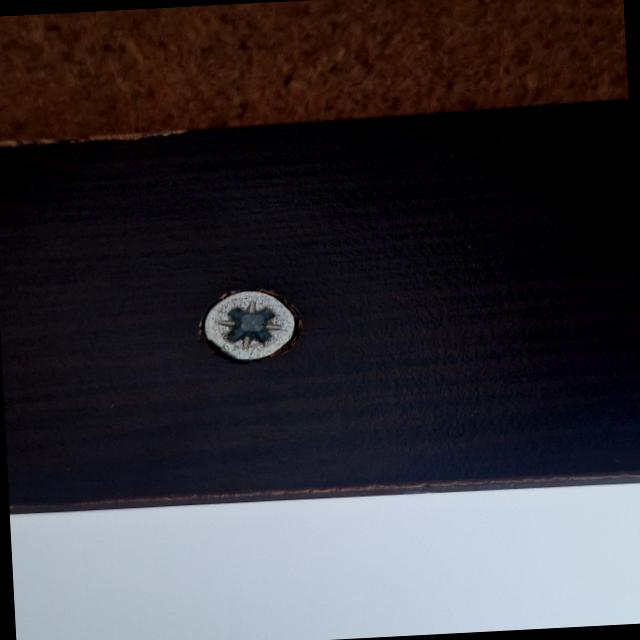Pozidriv: (189, 288, 301, 358)
